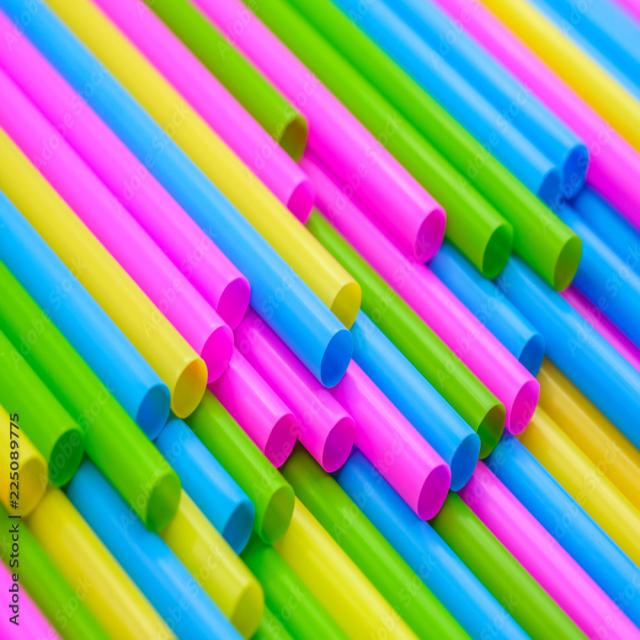plastic: (0, 294, 212, 550)
